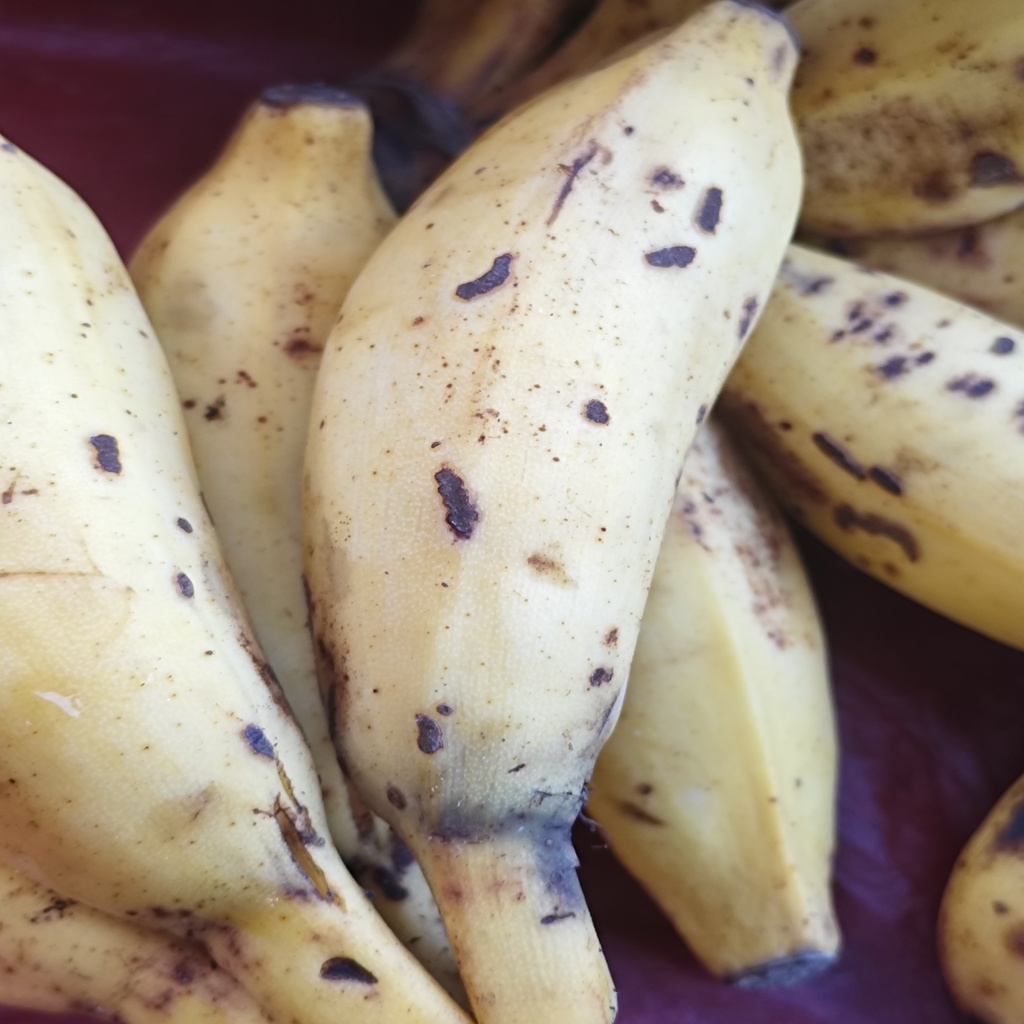unhealthy: (305, 11, 803, 874)
